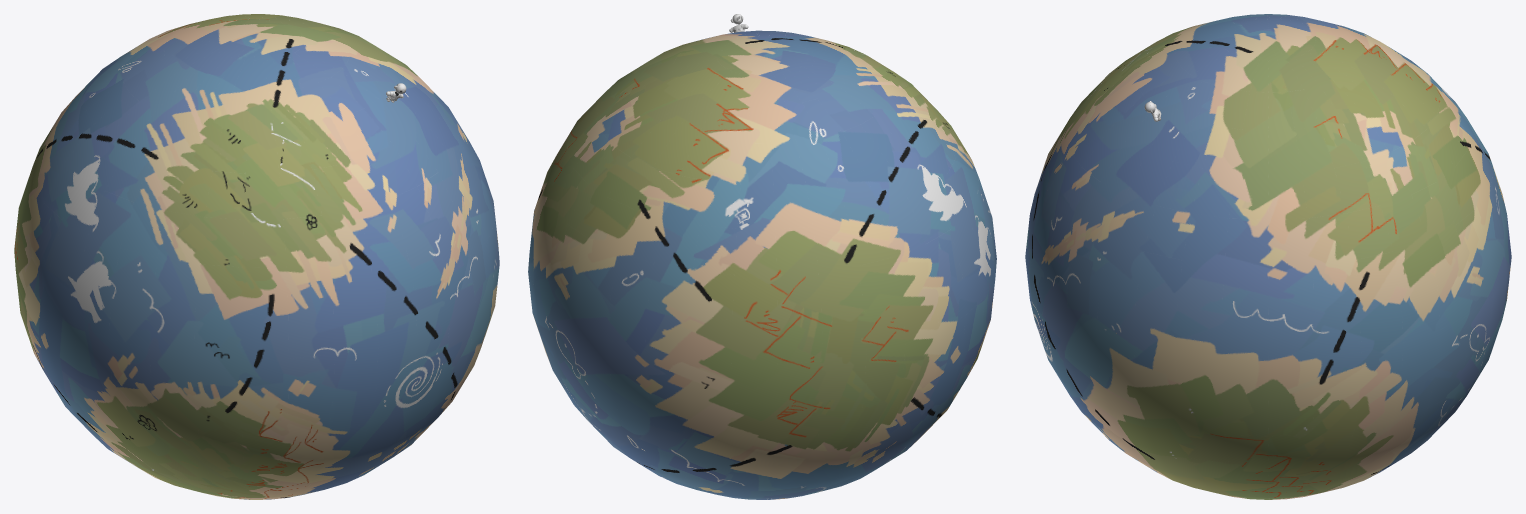
Rendered from world.glb.
The picture shows the model from 3 angles, left to right: view 1: azimuth 30°, elevation 25°; view 2: azimuth 150°, elevation 25°; view 3: azimuth 270°, elevation 25°; orthographic projection. The views are drawn at different scales.
Parts seen in each view (by area): view 1: Sphere; view 2: Sphere; view 3: Sphere.
Boxes of the visible parts, left/top/right/bottom form: Sphere: left=14, top=14, right=499, bottom=499; Sphere: left=528, top=30, right=996, bottom=499; Sphere: left=1025, top=14, right=1511, bottom=499.
Bounding box in the file's own units: 16.8 × 16.8 × 16.8.
Materials: 3 (2 with a texture image).
